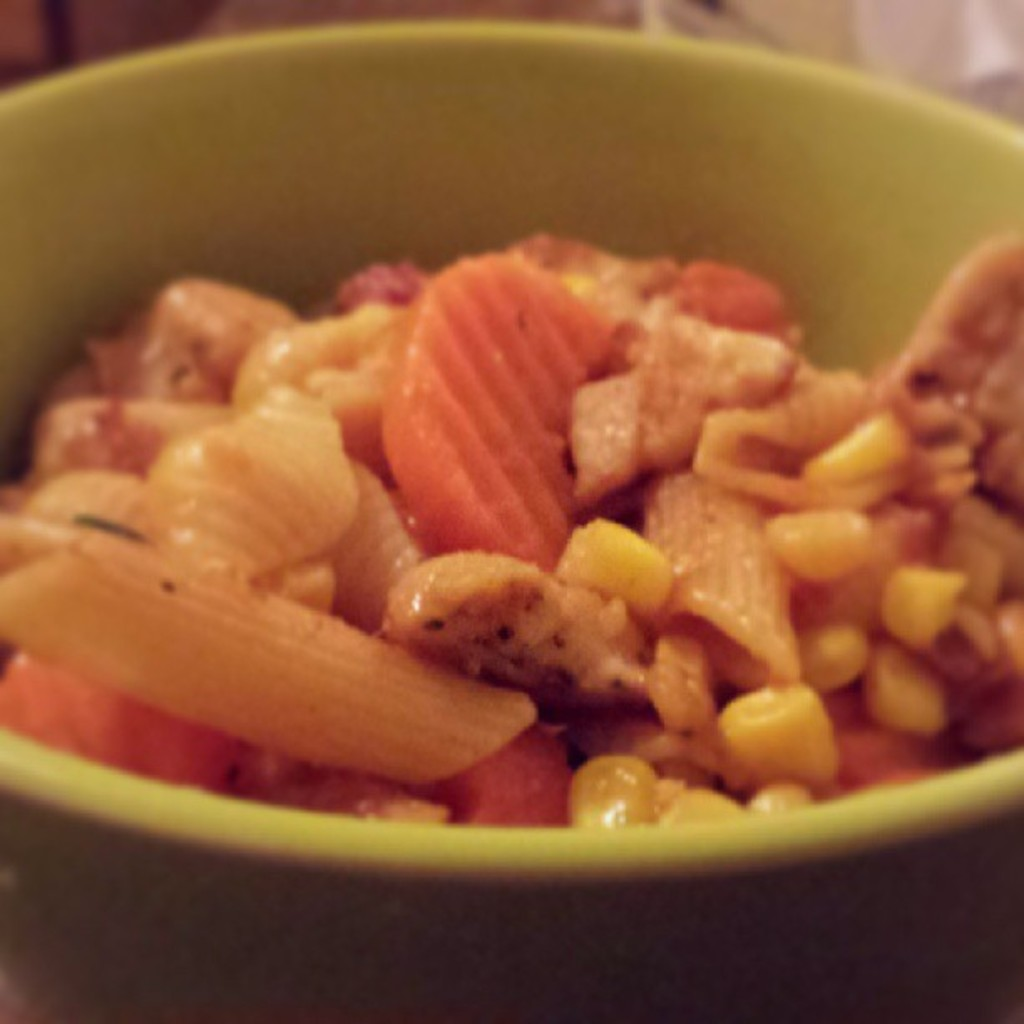pasta: (32, 189, 1014, 850)
